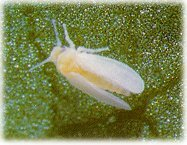whitefly: (28, 19, 146, 111)
